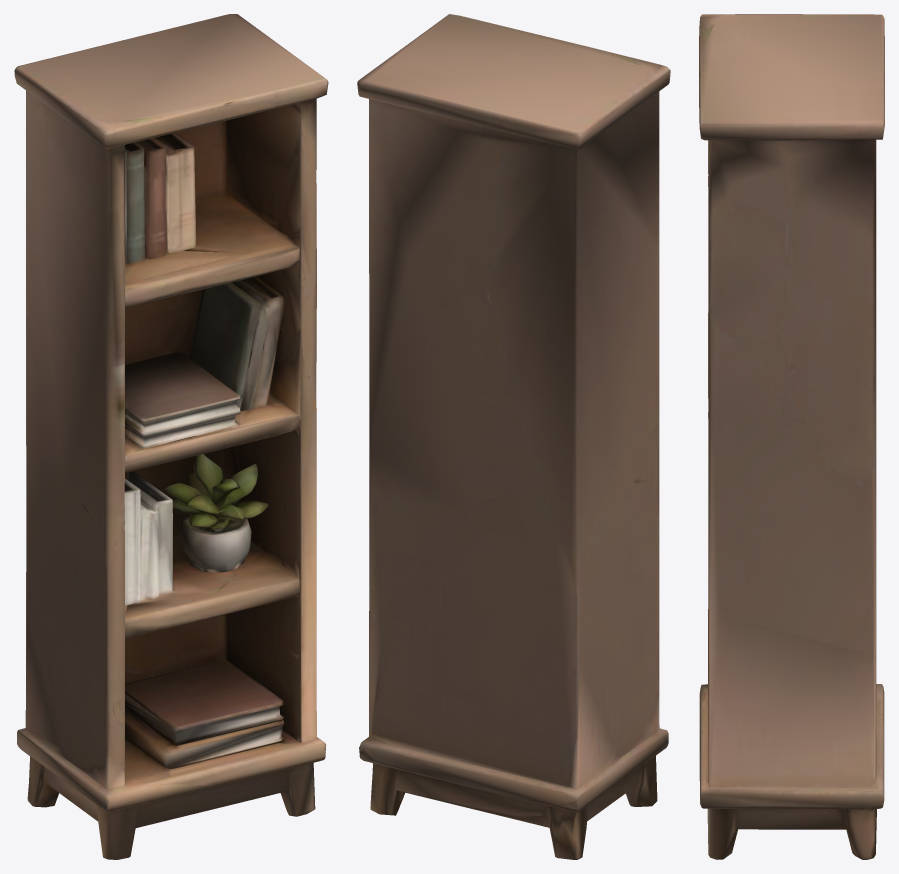
File: shelf-lite.glb
The picture shows the model from 3 angles, left to right: view 1: azimuth 30°, elevation 25°; view 2: azimuth 150°, elevation 25°; view 3: azimuth 270°, elevation 25°; orthographic projection.
Parts seen in each view (by area): view 1: node_0; view 2: node_0; view 3: node_0.
Part boxes in pixels (left/top/right/bottom): node_0: left=14, top=14, right=328, bottom=859; node_0: left=357, top=14, right=670, bottom=859; node_0: left=699, top=14, right=884, bottom=859.
Size of the model in its own units: 0.3581 by 1.12 by 0.2552.
1 material, 1 textured.
